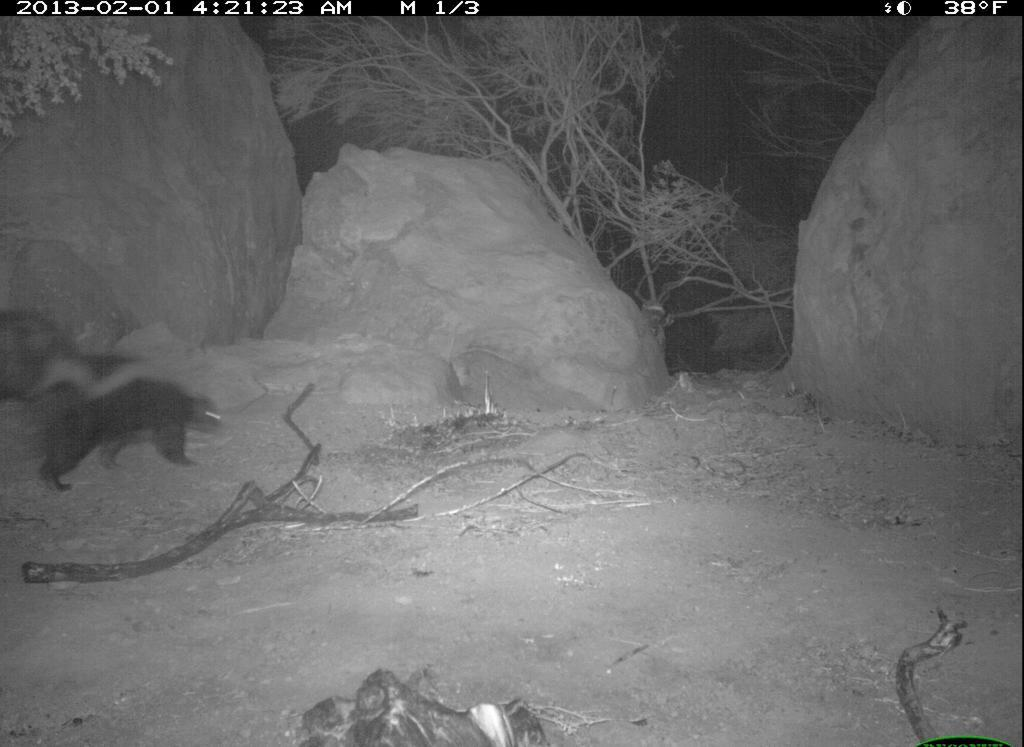skunk: (31, 345, 226, 488)
